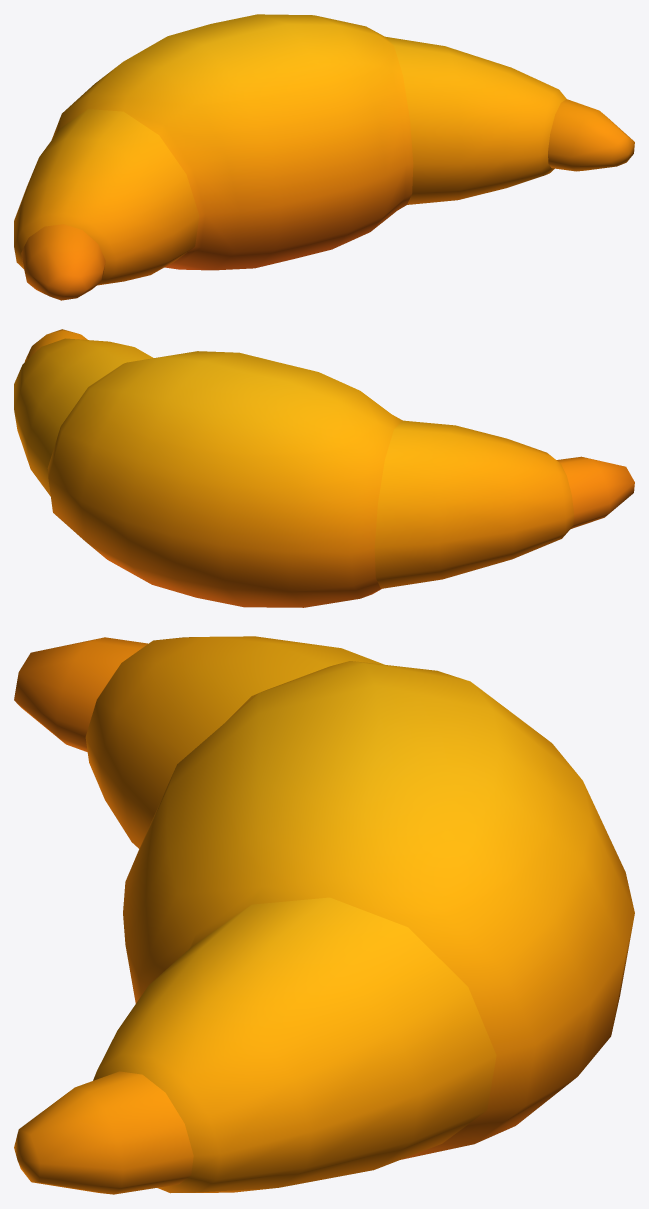
The model's file is croissant_001.fbx.
3 renders of one model, top to bottom at view 1: azimuth 30°, elevation 25°; view 2: azimuth 150°, elevation 25°; view 3: azimuth 270°, elevation 25°, orthographic. The views are drawn at different scales.
Parts seen in each view (by area): view 1: croissant_001; view 2: croissant_001; view 3: croissant_001.
Part boxes in pixels (box(x1,y1,x2,y2)): croissant_001: box(14, 14, 634, 300); croissant_001: box(14, 329, 634, 607); croissant_001: box(14, 636, 634, 1194).
Bounding box in the file's own units: 14.94 × 7.81 × 5.08.
